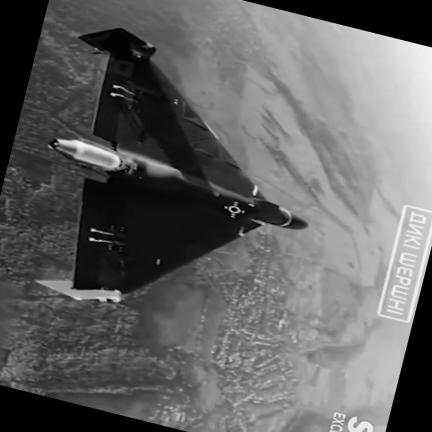Shahed: (35, 28, 307, 303)
